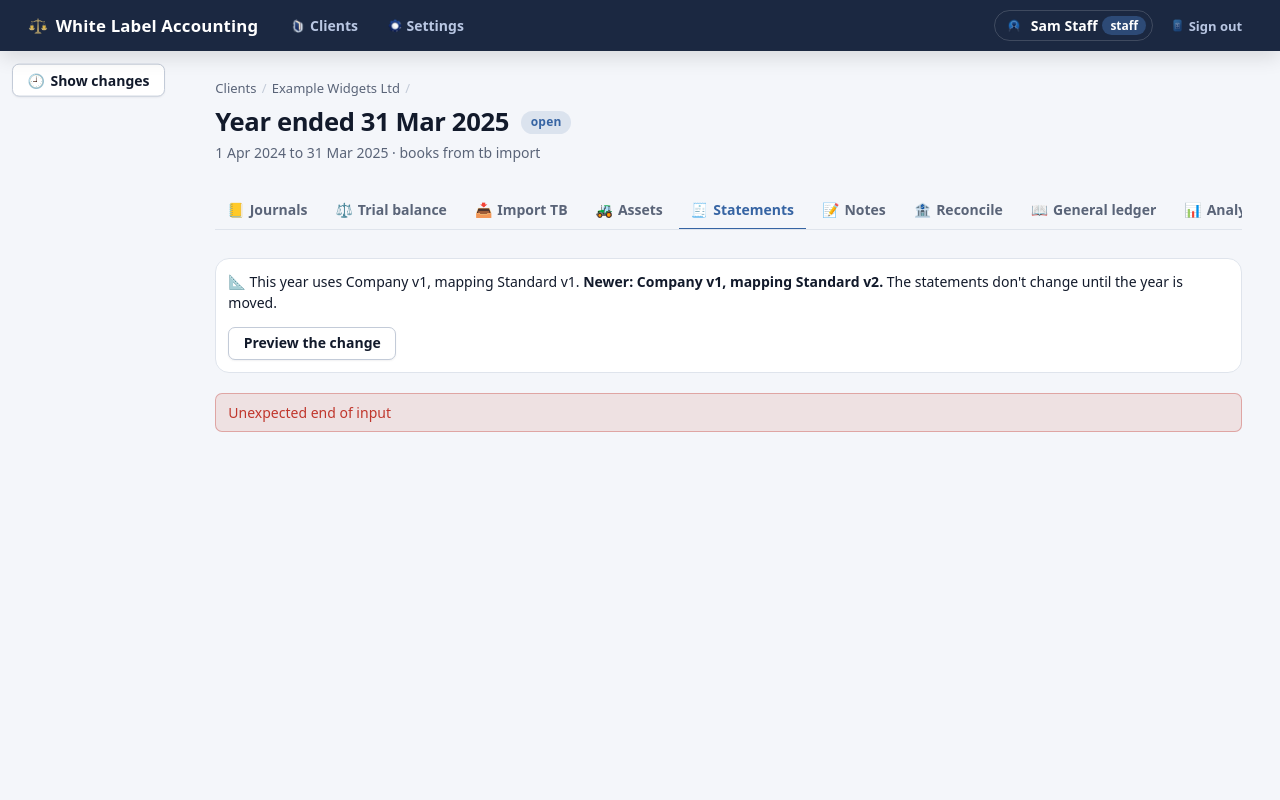
Test: moving a year onto a newer layout › can't move while the statements wouldn't build
This screenshot has width=1280, height=800.
Click the button "Preview the change" at [312, 343], box left=228, top=327, right=396, bottom=360
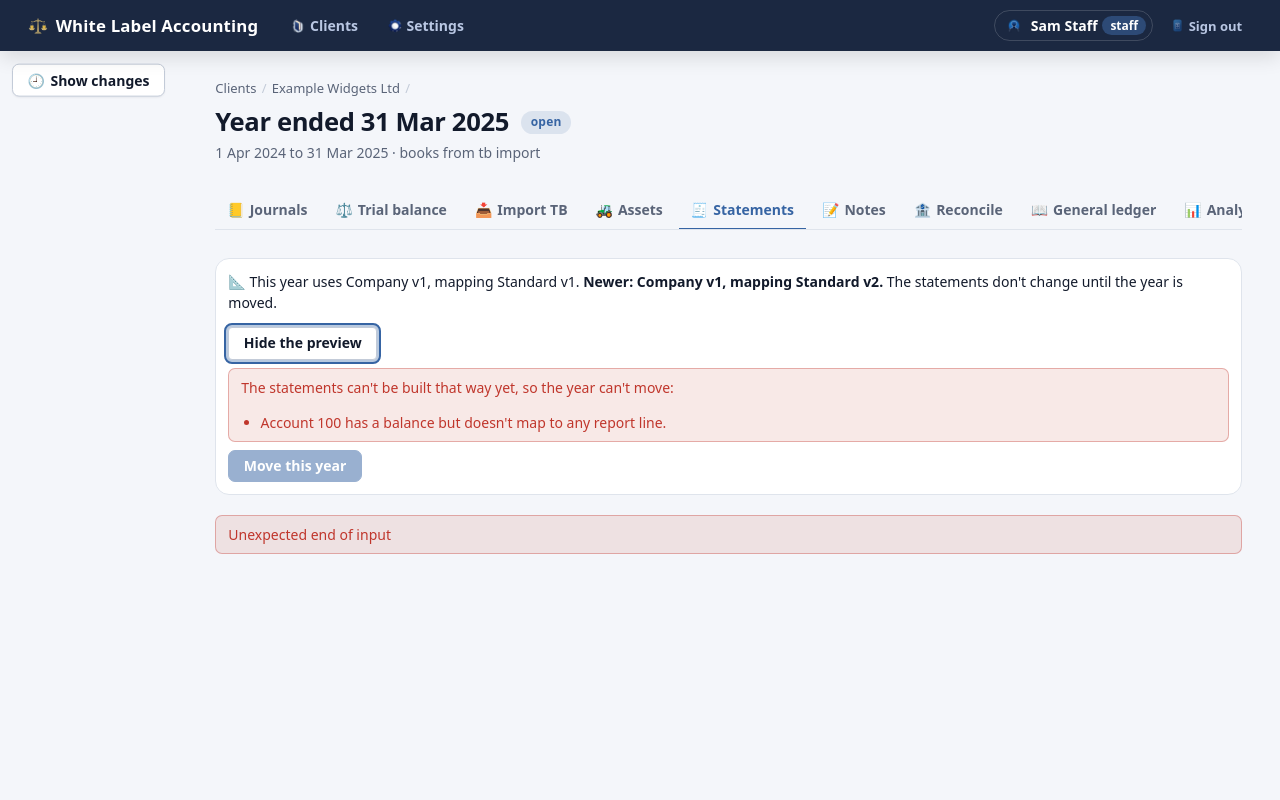
Result: the list item "Account 100 has a balance but doesn't map to any report line." is shown at left=260, top=412, right=666, bottom=432
Result: the button "Move this year" is disabled at left=228, top=450, right=362, bottom=482
